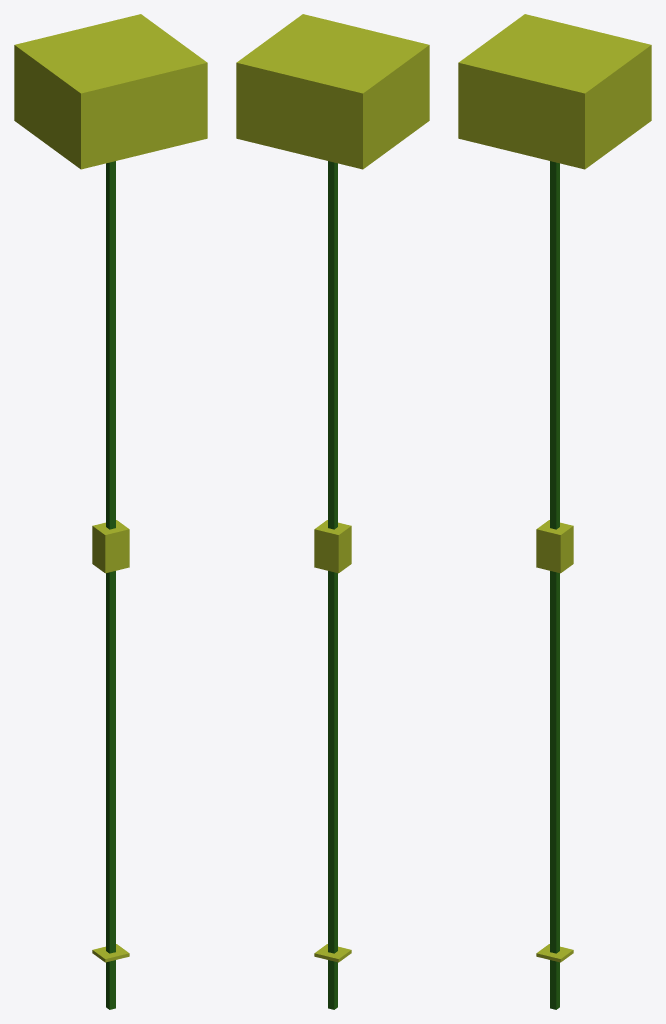
The model's file is LD_Flowers.fbx.
3 views of the same model, side by side, from view 1: azimuth 30°, elevation 25°; view 2: azimuth 150°, elevation 25°; view 3: azimuth 330°, elevation 25° (orthographic).
Visible parts, largest first — view 1: Flower max size test, Flower mid size; view 2: Flower max size test, Flower mid size; view 3: Flower max size test, Flower mid size.
Boxes of the visible parts, left/top/right/bottom form: Flower max size test: left=14, top=14, right=207, bottom=1009; Flower mid size: left=92, top=520, right=129, bottom=573; Flower max size test: left=236, top=14, right=429, bottom=1009; Flower mid size: left=314, top=520, right=351, bottom=573; Flower max size test: left=458, top=14, right=651, bottom=1009; Flower mid size: left=536, top=520, right=573, bottom=573.
Bounding box in the file's own units: 319 × 2299 × 290.
